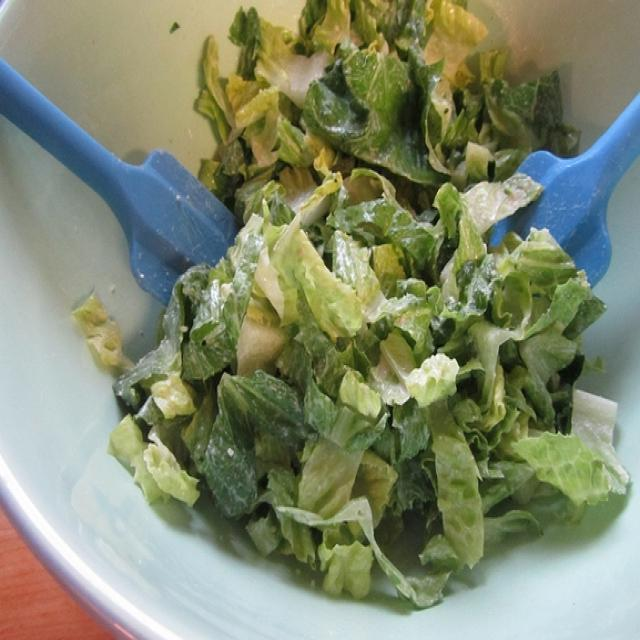蔬菜料理: (130, 21, 628, 615)
